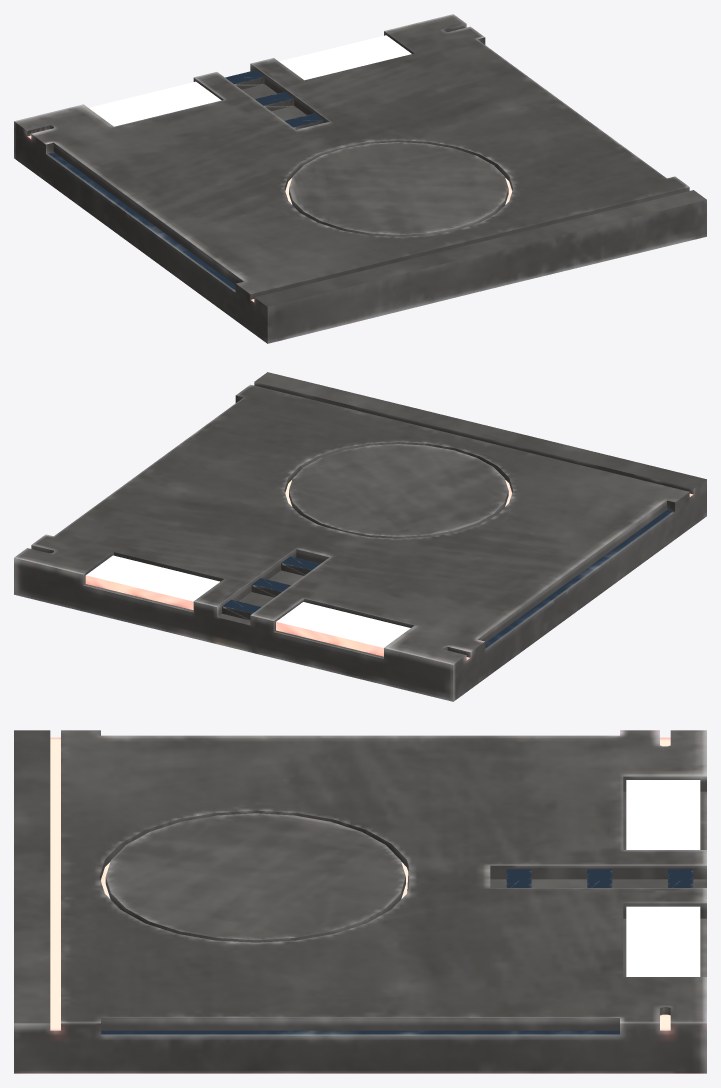
The model's file is FUT0510046.fbx.
The picture shows the model from 3 angles, top to bottom: view 1: azimuth 30°, elevation 25°; view 2: azimuth 150°, elevation 25°; view 3: azimuth 270°, elevation 25°; orthographic projection. The views are drawn at different scales.
Visible parts, largest first — view 1: smFUT0510046; view 2: smFUT0510046; view 3: smFUT0510046.
Boxes of the visible parts, x1,y1,x2,y2 form: smFUT0510046: (14,14,706,343); smFUT0510046: (14,372,706,701); smFUT0510046: (14,730,706,1073).
Size of the model in its own units: 168 by 13.53 by 168.
